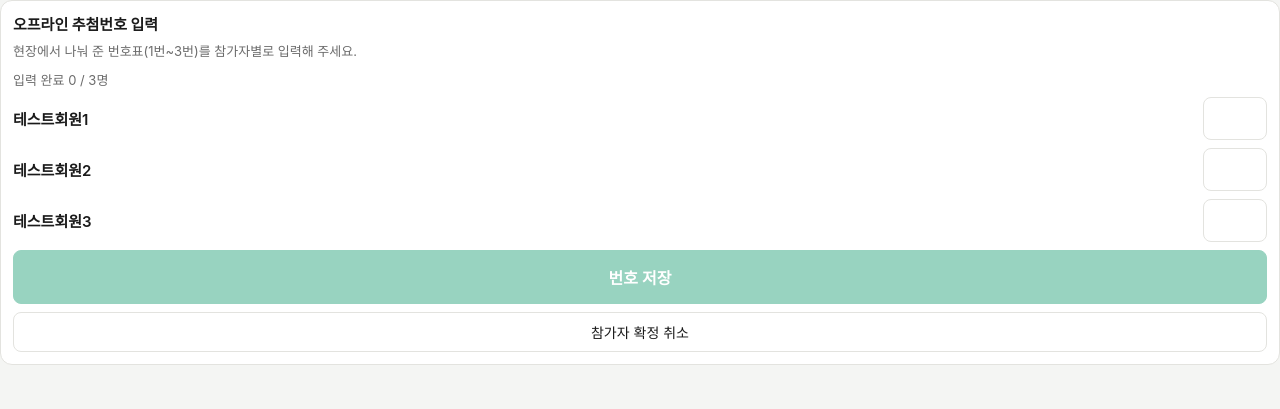
Test case: drawReady — 번호 입력 › 같은 번호를 두 번 입력하면 즉시 중복 안내가 뜬다
In the number field named "테스트회원1 추첨번호": {"x": 1235, "y": 118} [1203, 96, 1267, 140], type "1"
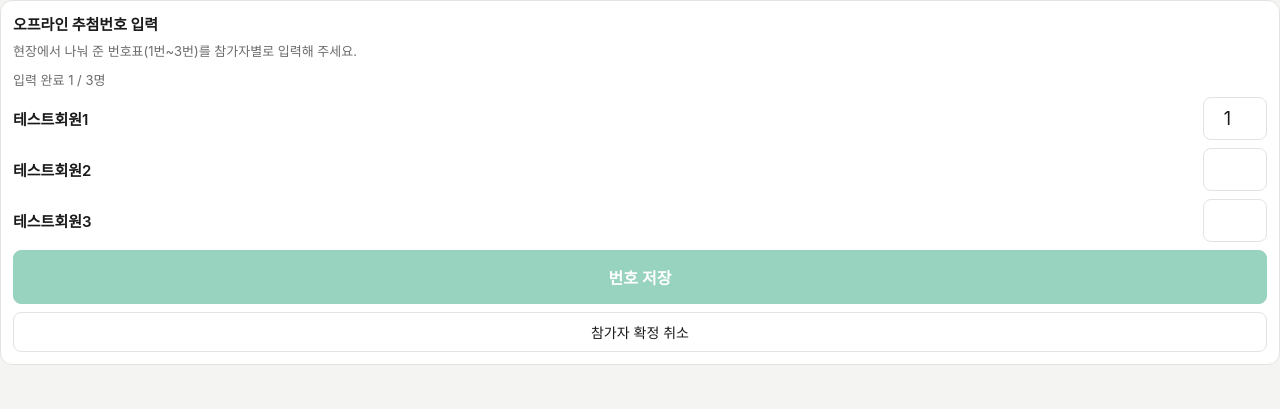
In the number field named "테스트회원2 추첨번호": {"x": 1235, "y": 169} [1203, 148, 1267, 190], type "1"
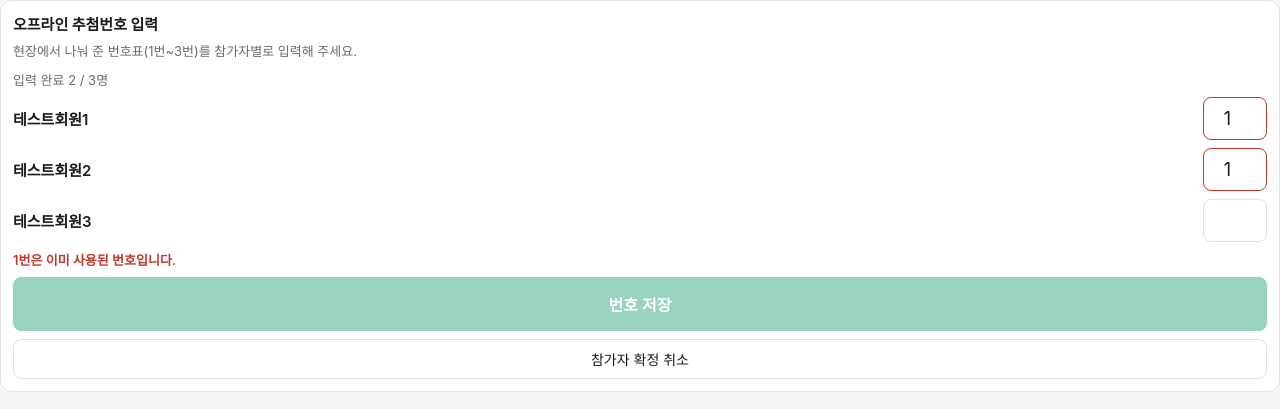
Now the text "1번은 이미 사용된 번호입니다." is shown, box [13, 252, 176, 268]
